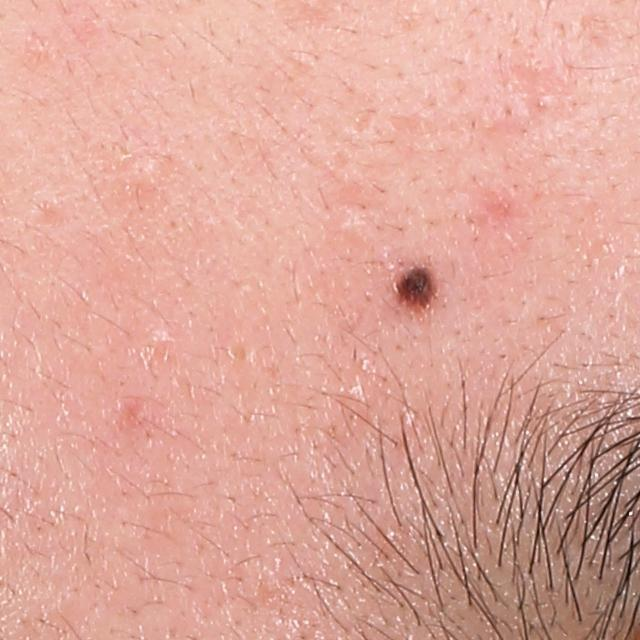nevus: (390, 260, 441, 321)
